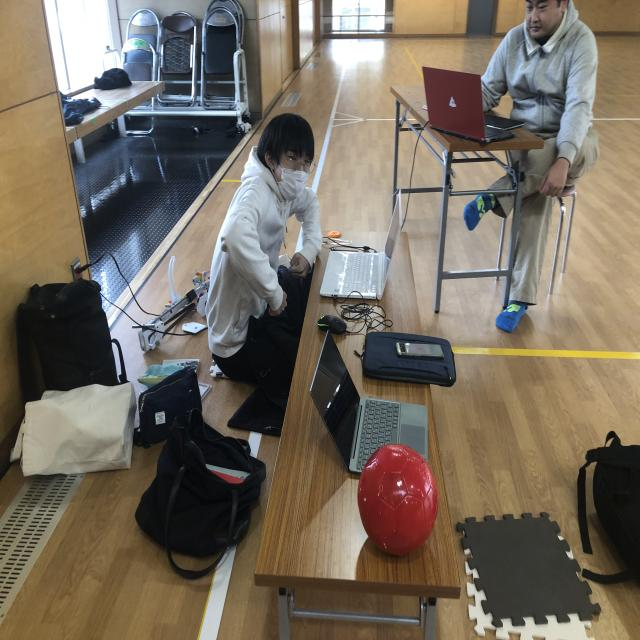red_ball: (357, 442, 440, 558)
